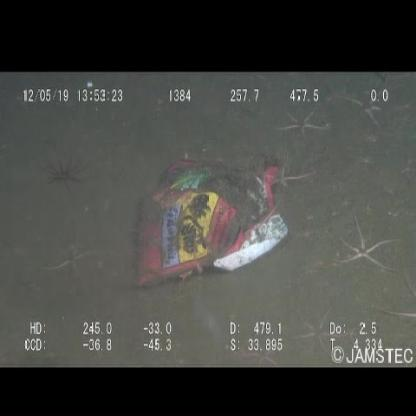Rác: (134, 149, 298, 296)
